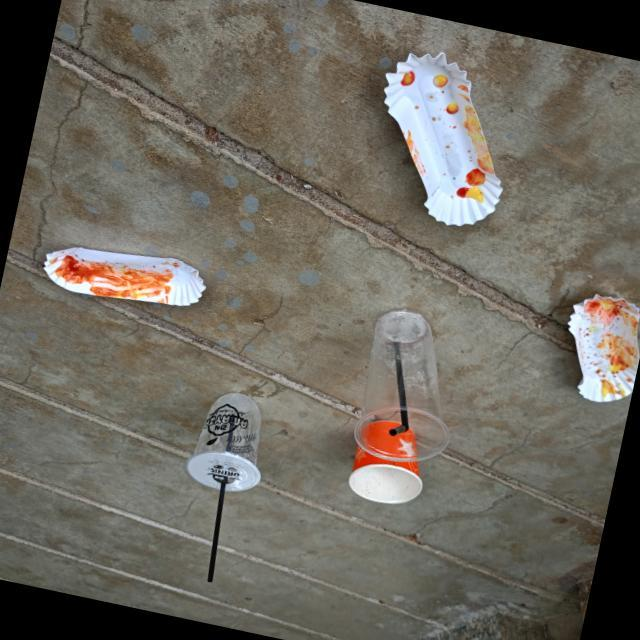recyclable waste: (348, 36, 536, 242), (339, 297, 482, 480), (30, 225, 222, 328), (176, 378, 282, 504), (544, 278, 640, 415), (336, 408, 441, 519)
